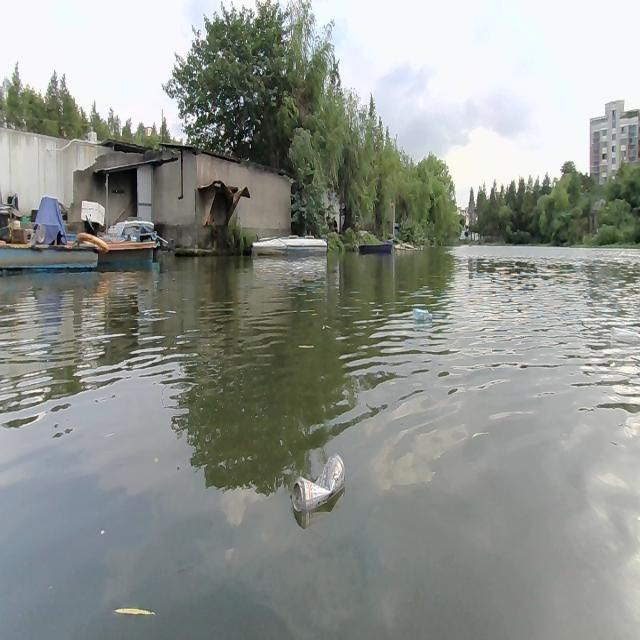bottle: (289, 447, 345, 512), (410, 306, 434, 321)
